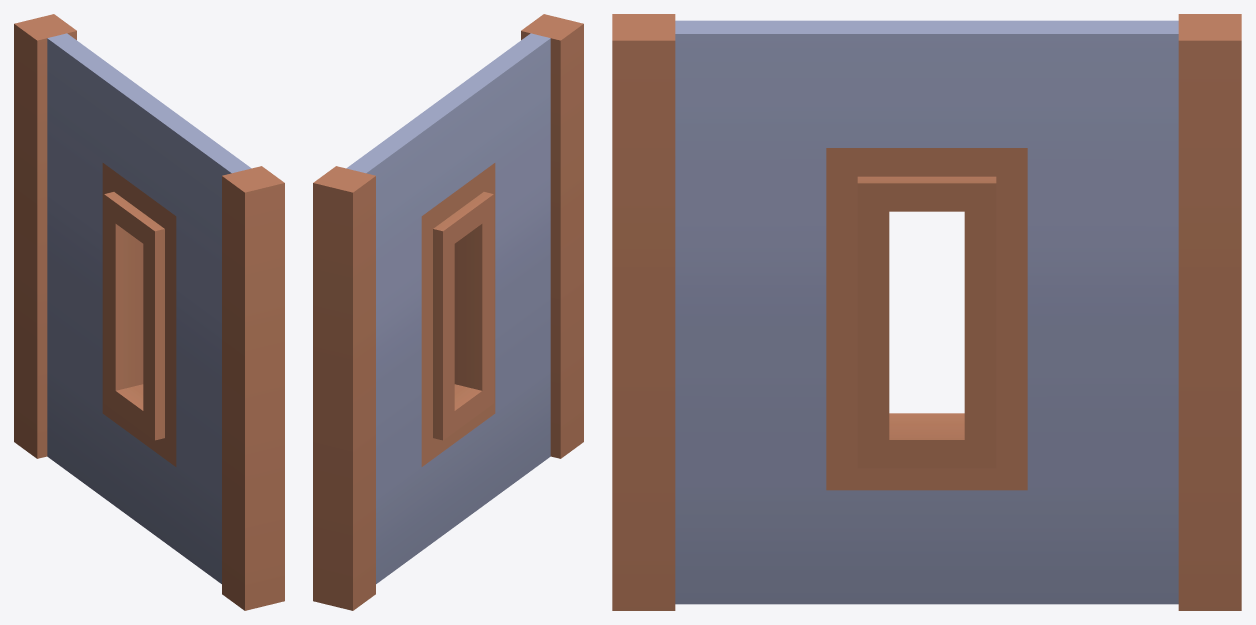
The model's file is wall-window-small.glb.
3 views of the same model, side by side, from view 1: azimuth 30°, elevation 25°; view 2: azimuth 150°, elevation 25°; view 3: azimuth 270°, elevation 25° (orthographic). The views are drawn at different scales.
Visible parts, largest first — view 1: wall-window-small; view 2: wall-window-small; view 3: wall-window-small.
Part boxes in pixels (x1,y1,x2,y2): wall-window-small: (14, 14, 284, 610); wall-window-small: (313, 14, 583, 610); wall-window-small: (612, 14, 1241, 610).
Bounding box in the file's own units: 0.1 × 1 × 1.
1 material, 1 textured.
